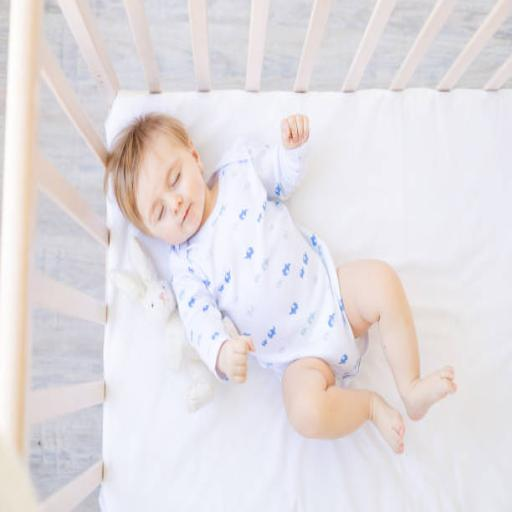baby: (105, 113, 456, 453)
crib: (0, 0, 122, 456)
